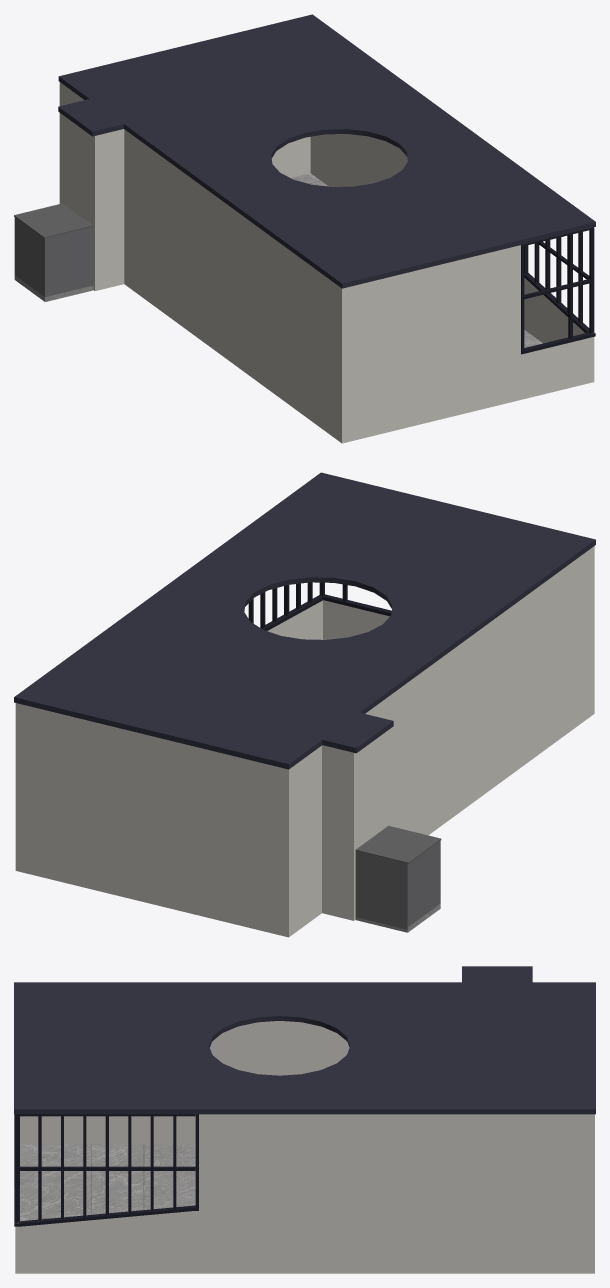
File: room.glb
3 renders of one model, top to bottom at view 1: azimuth 30°, elevation 25°; view 2: azimuth 150°, elevation 25°; view 3: azimuth 270°, elevation 25°, orthographic. The views are drawn at different scales.
Parts seen in each view (by area): view 1: AandS_wall, ceiling (×2), elevator_walls, elevator_roof, floor, pCube2; view 2: AandS_wall, ceiling (×2), elevator_walls, elevator_roof; view 3: AandS_wall, ceiling (×2), floor, pCube1.
Boxes of the visible parts, x1,y1,x2,y2 form: AandS_wall: (59,82,594,443); ceiling (×2): (58,14,595,288); elevator_walls: (14,217,93,297); elevator_roof: (14,203,93,238); floor: (14,173,542,347); pCube2: (521,244,595,354); AandS_wall: (15,546,594,937); ceiling (×2): (14,472,595,769); elevator_walls: (355,841,440,929); elevator_roof: (355,825,441,863); AandS_wall: (15,1021,594,1273); ceiling (×2): (14,966,595,1114); floor: (20,1144,195,1221); pCube1: (18,1114,198,1226).
Size of the model in its own units: 13.81 by 6.41 by 20.46.
Materials: 6 (6 with a texture image).
